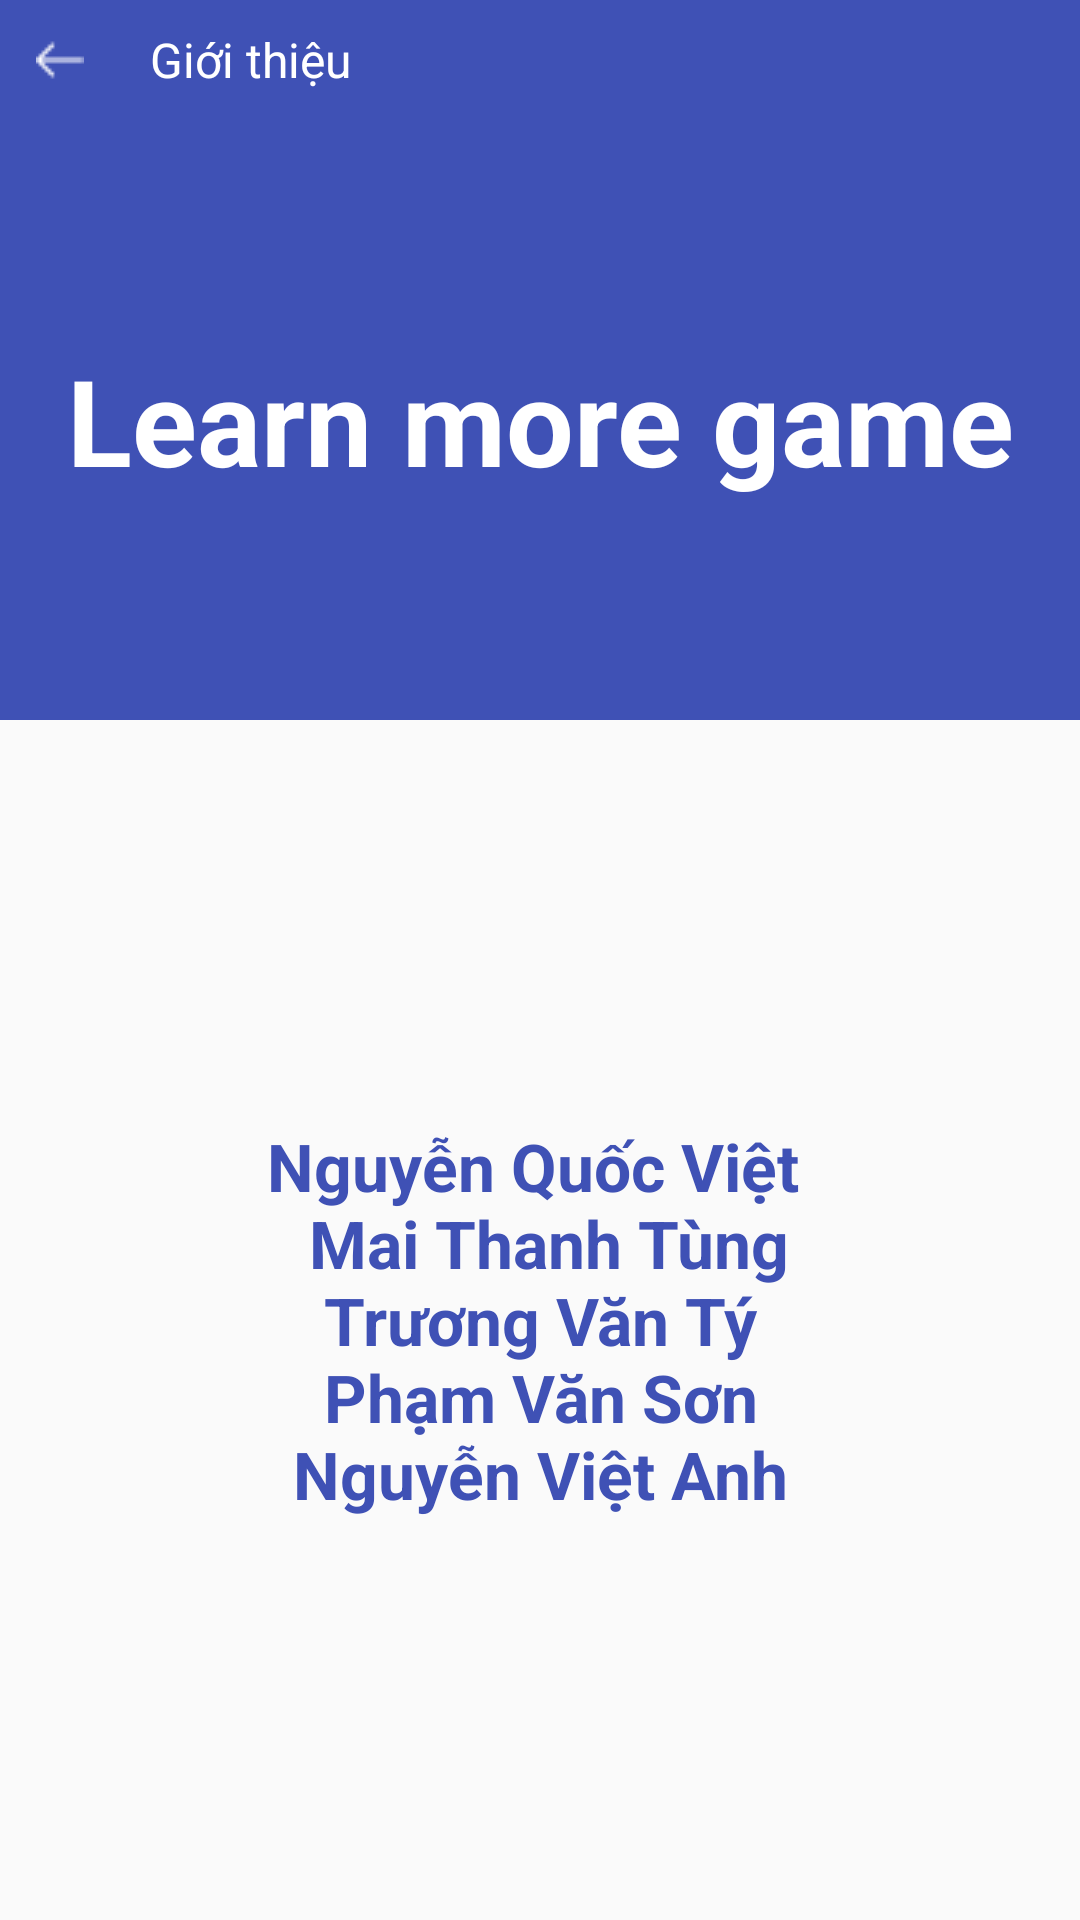

Named icons in this screenshot (1080*1920) and their centers, [x,y]:
left arrow: [60,60]
